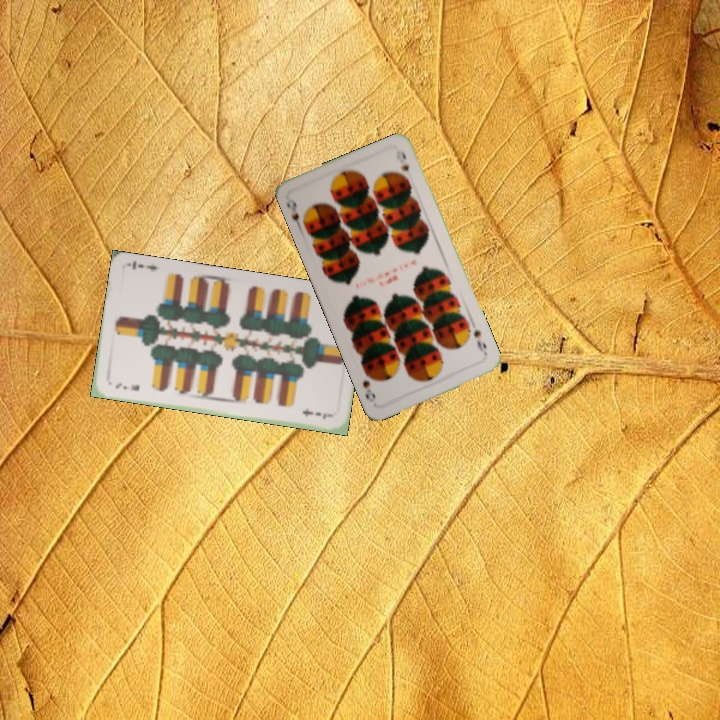E7: (112, 378, 142, 394)
S9: (282, 194, 308, 233), (469, 324, 490, 359)
